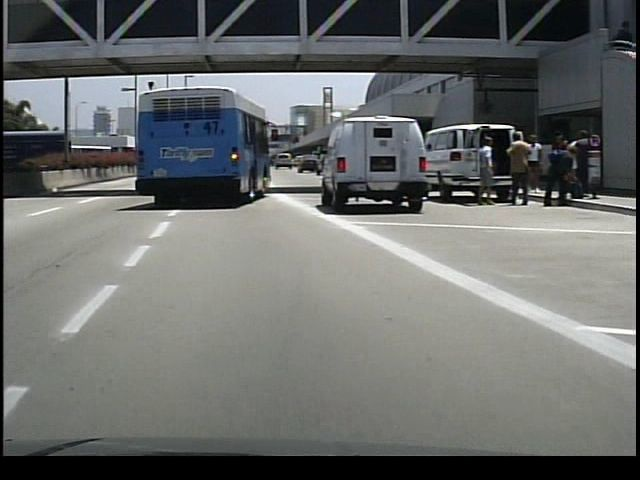person: (500, 130, 529, 210), (471, 133, 495, 209)
